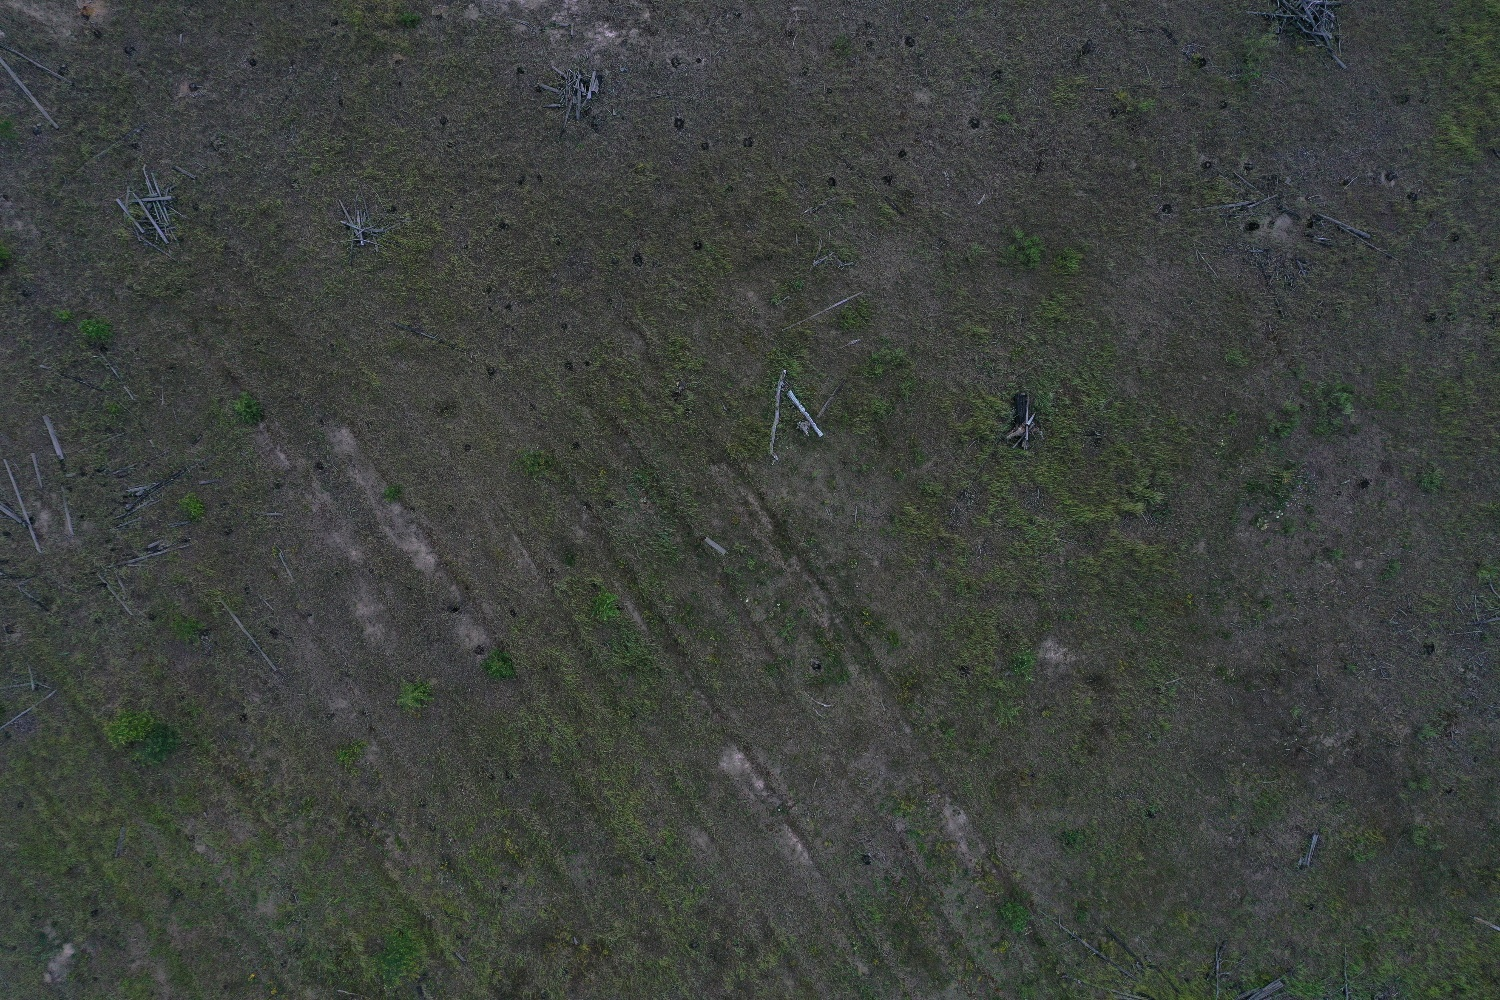branches: (114, 163, 184, 251), (537, 65, 605, 133), (1277, 1, 1344, 51), (335, 198, 390, 254)
